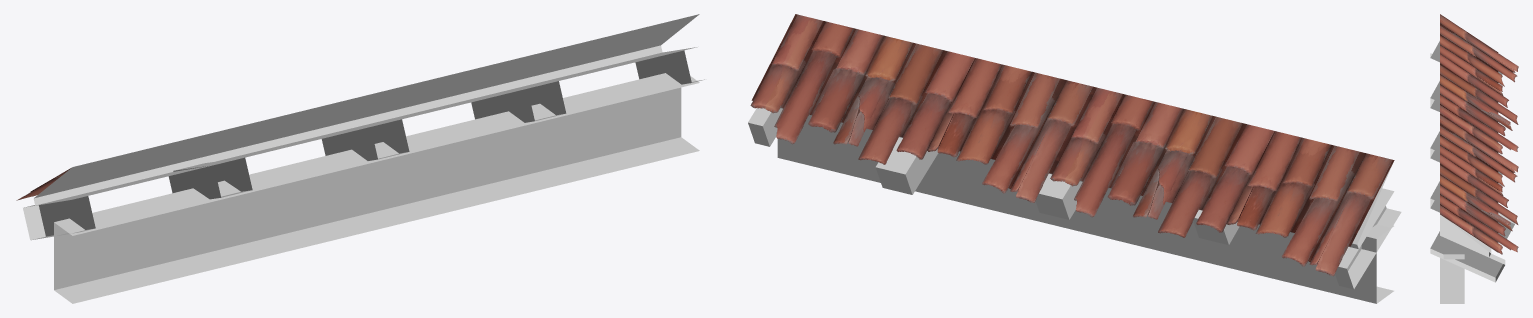
File: WallKit_Eaves_LOD1.fbx
3 renders of one model, left to right at view 1: azimuth 30°, elevation 25°; view 2: azimuth 150°, elevation 25°; view 3: azimuth 270°, elevation 25°, orthographic. The views are drawn at different scales.
Visible parts, largest first — view 1: WallKit_Eaves_LOD1; view 2: WallKit_Eaves_LOD1; view 3: WallKit_Eaves_LOD1.
Part boxes in pixels (x1,y1,x2,y2): WallKit_Eaves_LOD1: [16, 14, 704, 303]; WallKit_Eaves_LOD1: [748, 14, 1401, 303]; WallKit_Eaves_LOD1: [1430, 14, 1518, 303].
Size of the model in its own units: 401 by 83.4 by 74.64.
